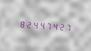eight: (17, 18, 23, 29)
four: (31, 19, 37, 30), (38, 19, 44, 30), (52, 20, 58, 31)
seven: (45, 20, 51, 31), (66, 21, 72, 32)
two: (59, 20, 65, 32), (24, 18, 30, 29)
